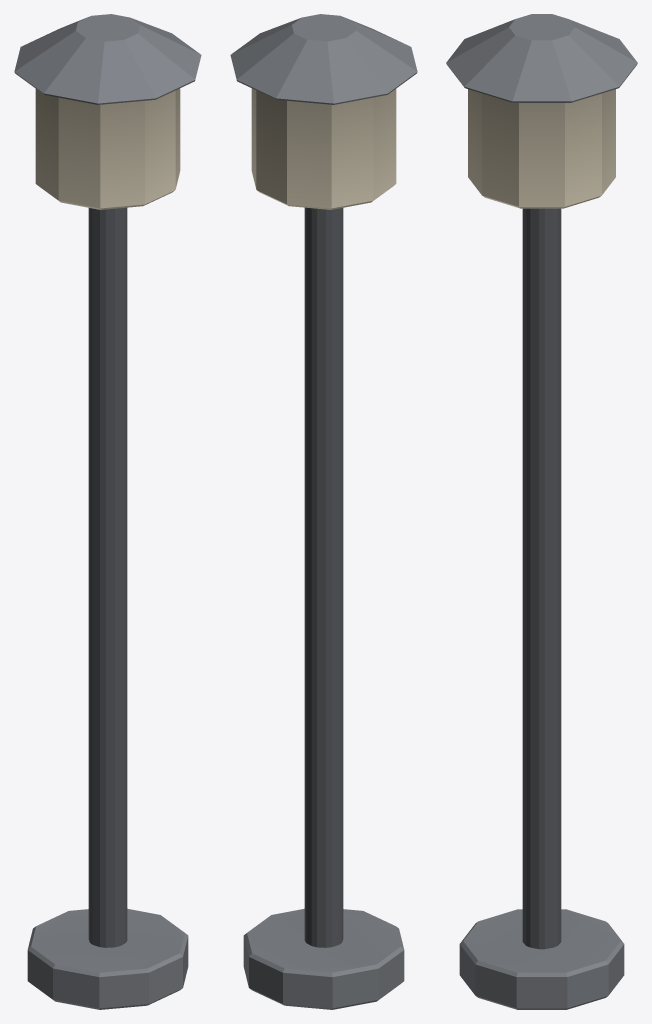
The model's file is garden_light.glb.
The picture shows the model from 3 angles, left to right: view 1: azimuth 30°, elevation 25°; view 2: azimuth 150°, elevation 25°; view 3: azimuth 270°, elevation 25°; orthographic projection.
Size of the model in its own units: 0.2216 by 1.27 by 0.233.
